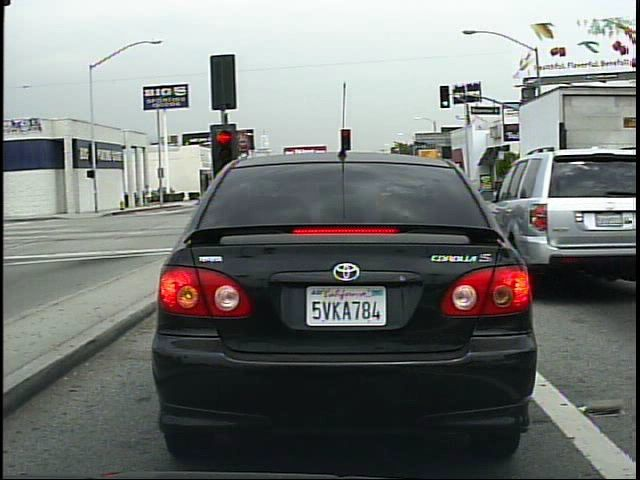person: (517, 169, 531, 202), (144, 181, 156, 210)
